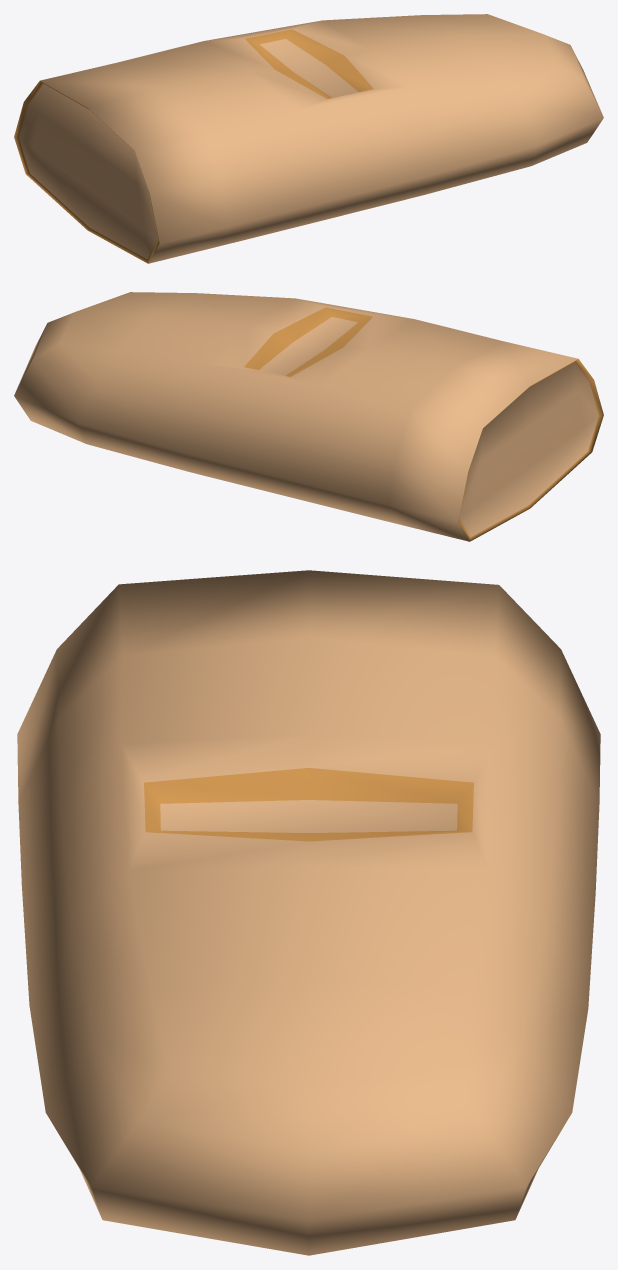
File: SlicedBaguette.fbx
3 views of the same model, one above another, from view 1: azimuth 30°, elevation 25°; view 2: azimuth 150°, elevation 25°; view 3: azimuth 270°, elevation 25° (orthographic). The views are drawn at different scales.
Visible parts, largest first — view 1: SlicedBaguette; view 2: SlicedBaguette; view 3: SlicedBaguette.
Boxes of the visible parts, x1,y1,x2,y2 form: SlicedBaguette: [14, 14, 603, 263]; SlicedBaguette: [14, 292, 603, 541]; SlicedBaguette: [17, 570, 600, 1255].
Bounding box in the file's own units: 62.74 × 15.09 × 31.92.
